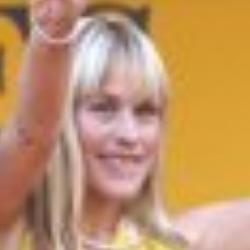face: (22, 9, 187, 241)
